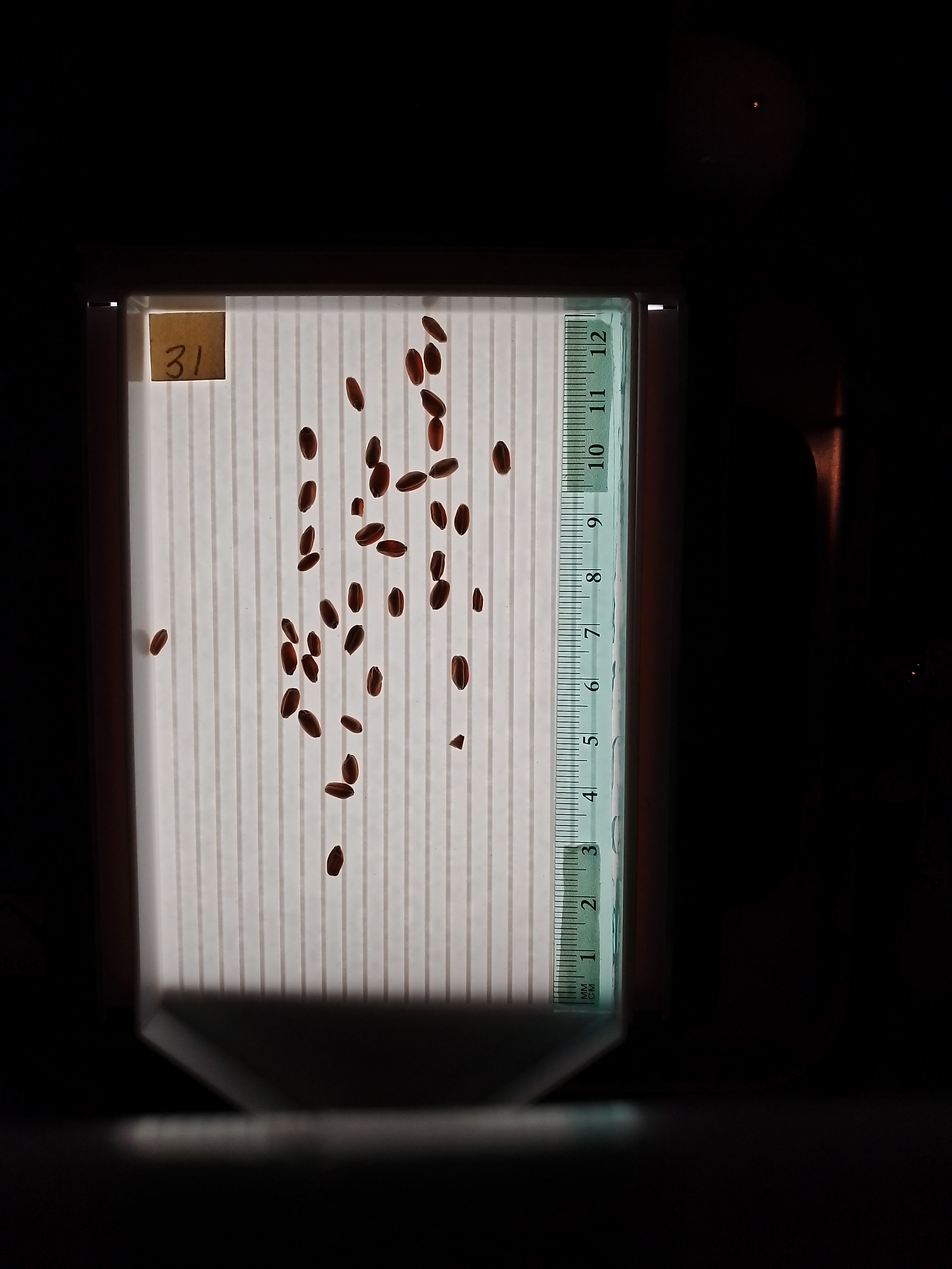seed mask: (421, 390, 446, 418), (370, 463, 390, 497), (396, 471, 426, 493), (405, 349, 423, 385), (492, 441, 511, 475), (298, 710, 321, 738), (356, 523, 384, 546), (423, 316, 446, 343), (298, 481, 317, 513), (451, 656, 469, 689), (346, 378, 364, 411), (299, 427, 317, 459), (430, 458, 458, 478), (320, 600, 339, 629), (281, 688, 299, 718), (345, 625, 364, 653), (378, 539, 406, 558), (428, 418, 444, 451), (424, 344, 441, 375), (431, 581, 449, 610), (281, 643, 297, 674), (365, 437, 381, 468), (327, 846, 343, 876), (454, 505, 470, 535), (325, 782, 353, 799), (149, 630, 168, 655), (342, 755, 358, 784), (367, 667, 383, 696), (388, 588, 404, 616), (299, 527, 314, 556), (302, 655, 318, 682), (431, 502, 447, 529), (348, 584, 363, 612), (431, 551, 445, 581), (341, 715, 362, 733), (298, 553, 319, 571), (282, 619, 297, 643), (307, 633, 321, 655)
